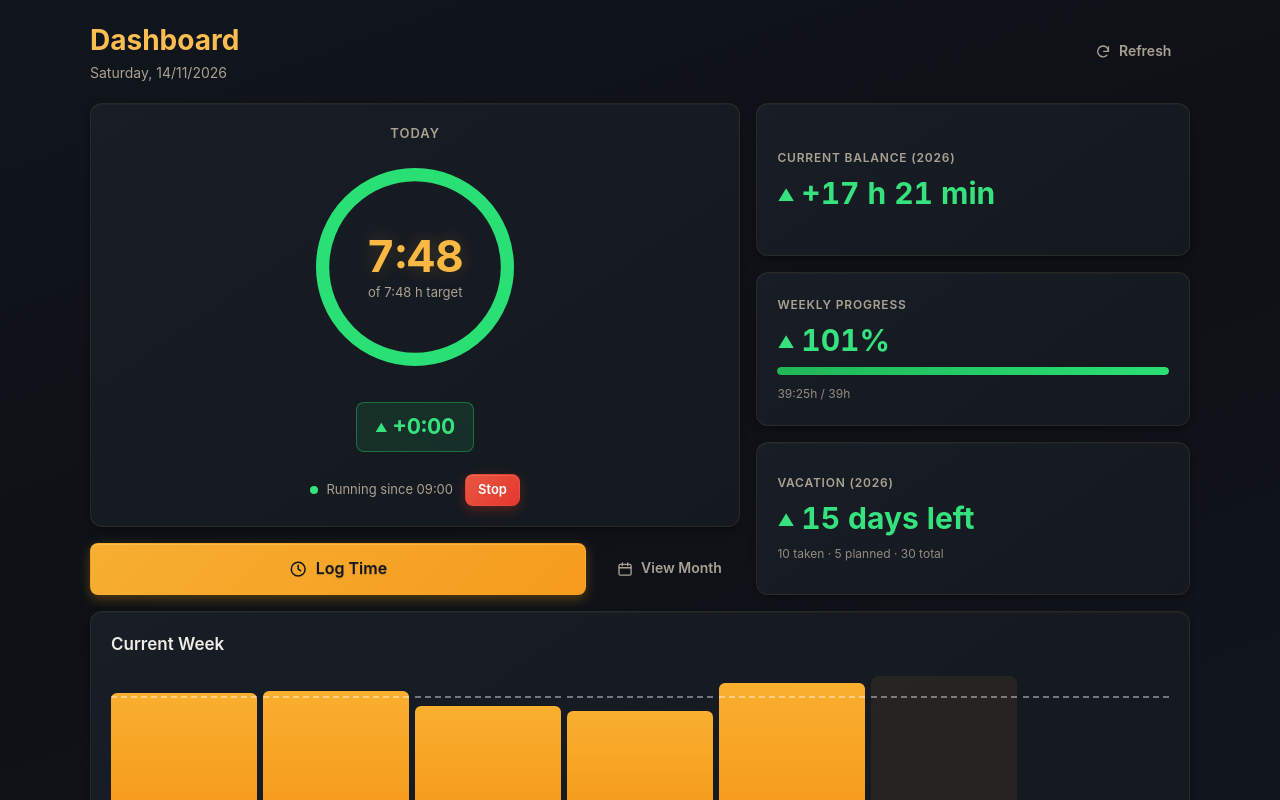
Scenario: DashboardPage › shows a running booking and stops it with the current time
expect the element with test id "running-entry" shows "Running since 09:00": met, box [326,481,453,497]
Click the button "Stop" at (492, 490), box [465,474,520,506]
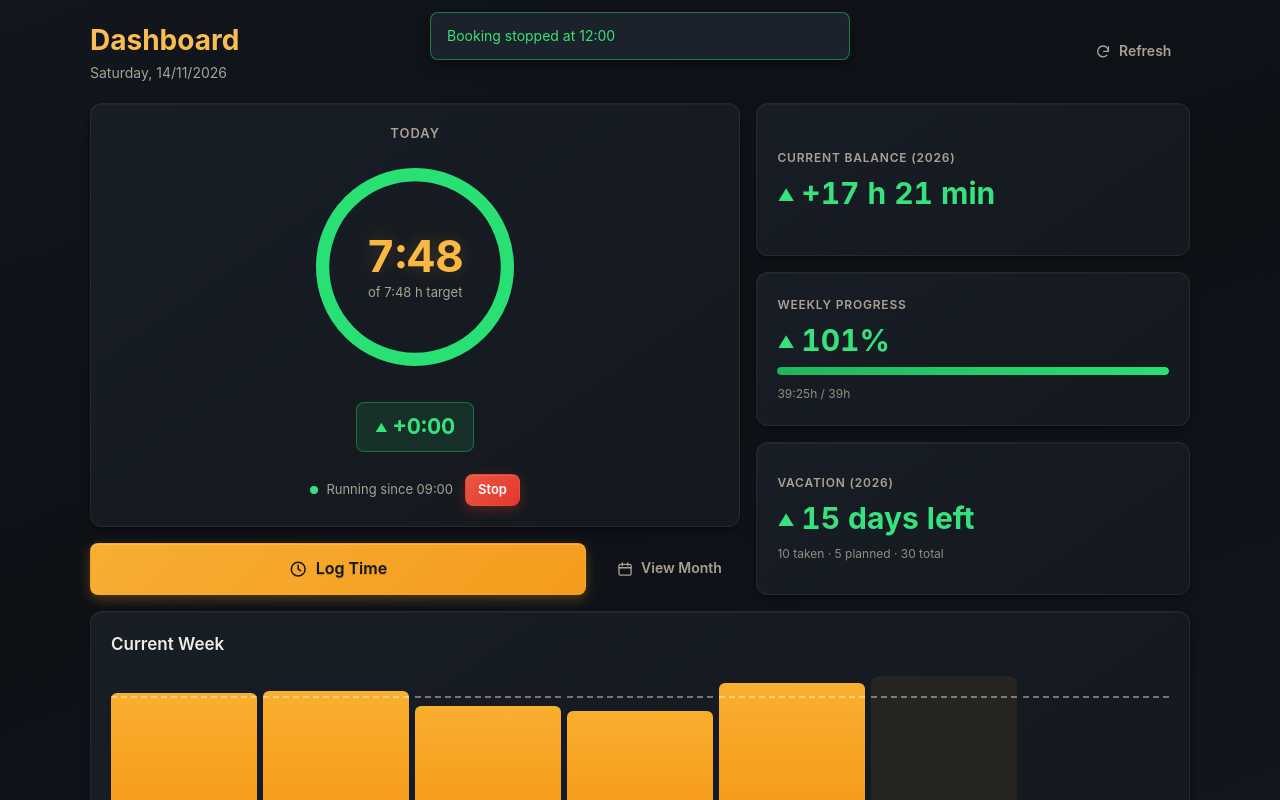
expect the text "Booking stopped at 12:00" is shown: met, box [430,12,850,60]
